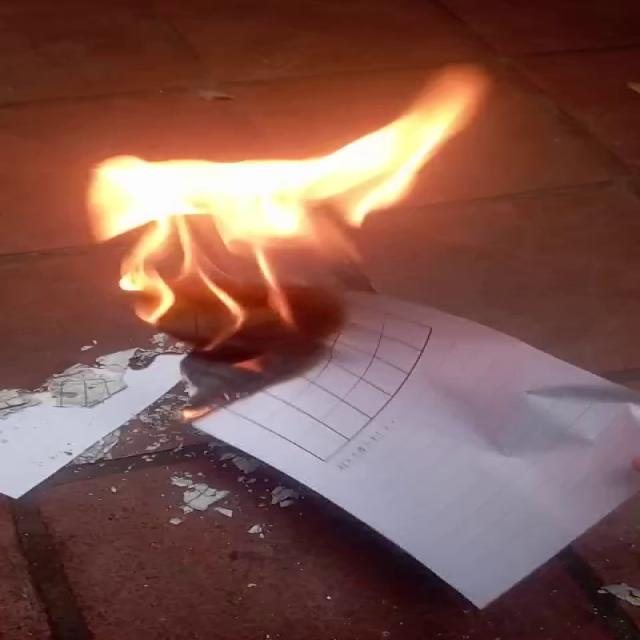Fire_Dangerous: (74, 60, 496, 421)
